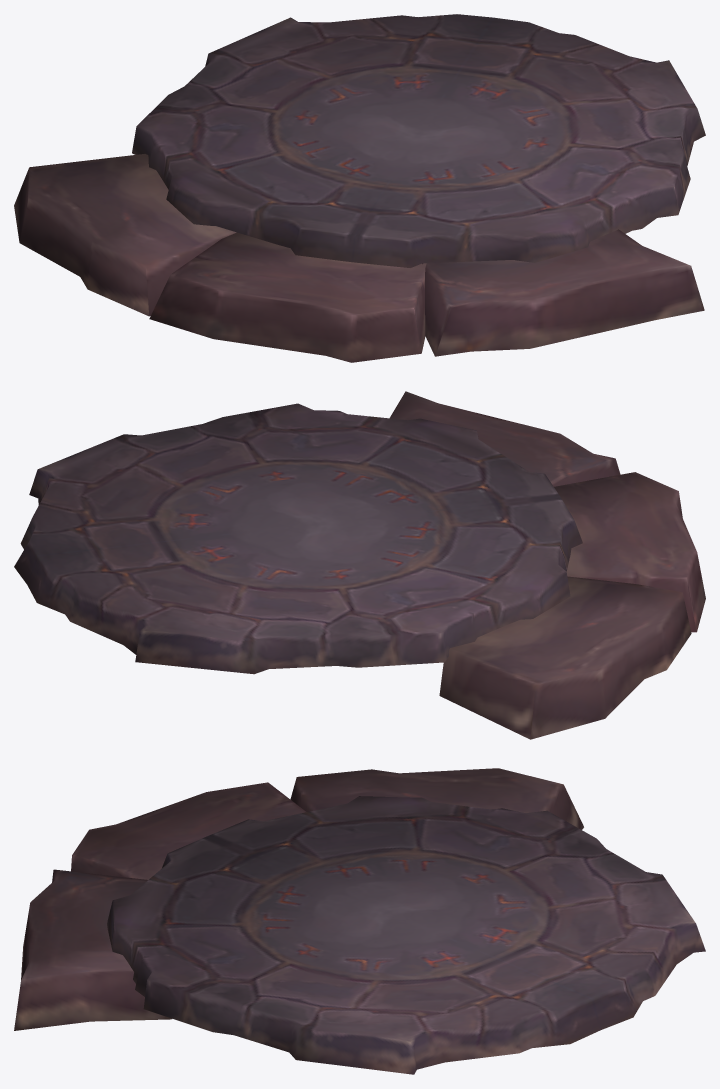
Rendered from FB6_chuansong01.FBX.
3 renders of one model, top to bottom at view 1: azimuth 30°, elevation 25°; view 2: azimuth 150°, elevation 25°; view 3: azimuth 270°, elevation 25°, orthographic.
Visible parts, largest first — view 1: FB6_chuansong01_001, FB6_chuansong01_003, FB6_chuansong01_002, FB6_chuansong01_004; view 2: FB6_chuansong01_001, FB6_chuansong01_004, FB6_chuansong01_003, FB6_chuansong01_002; view 3: FB6_chuansong01_001, FB6_chuansong01_002, FB6_chuansong01_003, FB6_chuansong01_004.
Boxes of the visible parts, <box> form: FB6_chuansong01_001: <box>132,14,705,267</box>; FB6_chuansong01_003: <box>149,232,426,362</box>; FB6_chuansong01_002: <box>422,229,704,356</box>; FB6_chuansong01_004: <box>14,154,236,316</box>; FB6_chuansong01_001: <box>14,403,582,674</box>; FB6_chuansong01_004: <box>439,576,691,739</box>; FB6_chuansong01_003: <box>554,472,705,632</box>; FB6_chuansong01_002: <box>390,391,620,486</box>; FB6_chuansong01_001: <box>107,796,705,1074</box>; FB6_chuansong01_002: <box>14,869,171,1030</box>; FB6_chuansong01_003: <box>71,782,306,879</box>; FB6_chuansong01_004: <box>290,768,583,829</box>.
Bounding box in the file's own units: 815 × 85.93 × 781.
